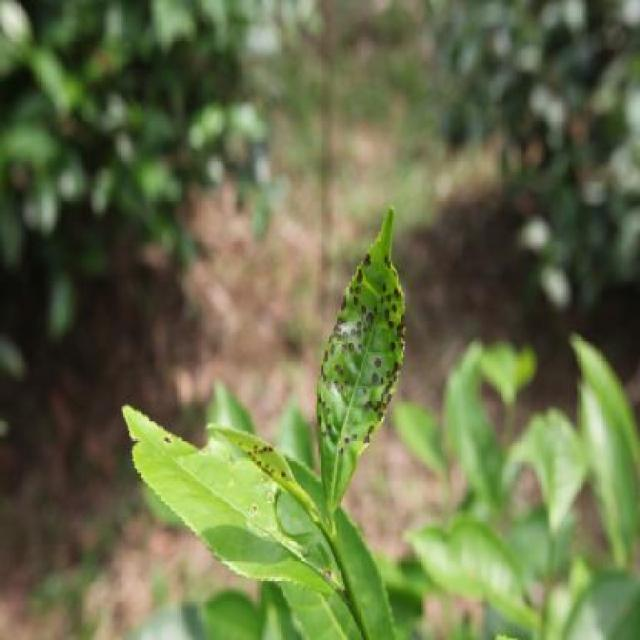Tea Mosquito bug infested leaf: (321, 205, 414, 557)
